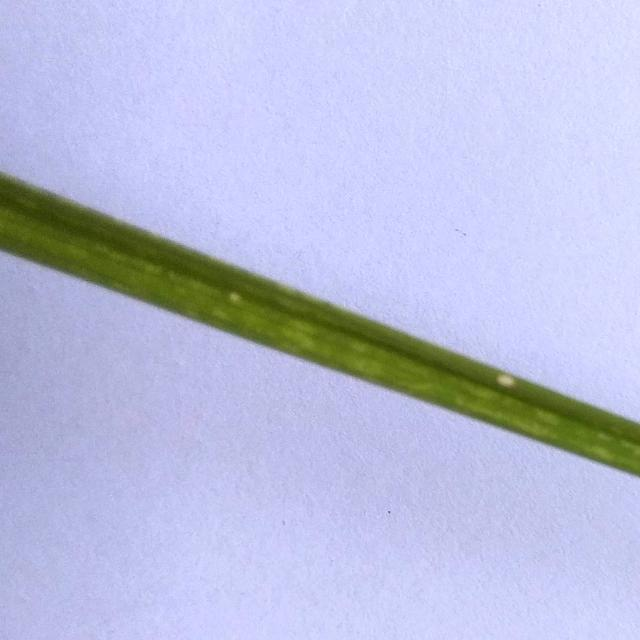Blast: (494, 373, 521, 388), (227, 288, 242, 303)
